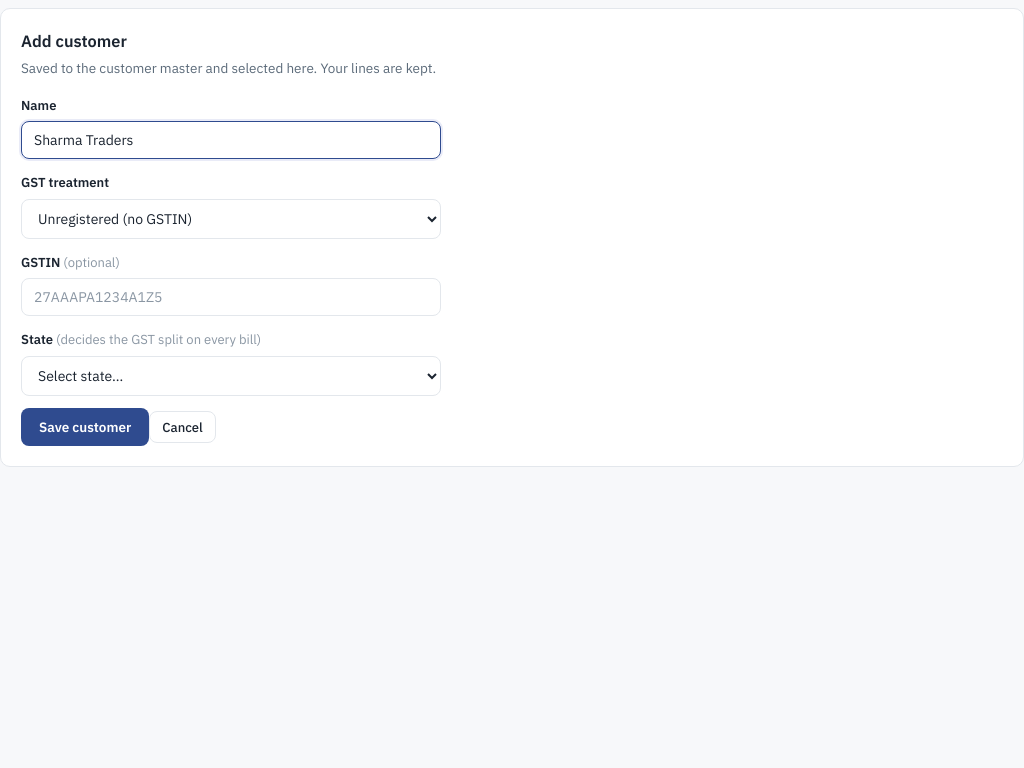
Test: <QuickAddCustomer> › keeps the typed values when the server errors
The image size is (1024, 768).
Select "09 — Uttar Pradesh" in the dropdown labelled "State (decides the GST split on every bill)" at (231, 376), box [21, 356, 441, 396]
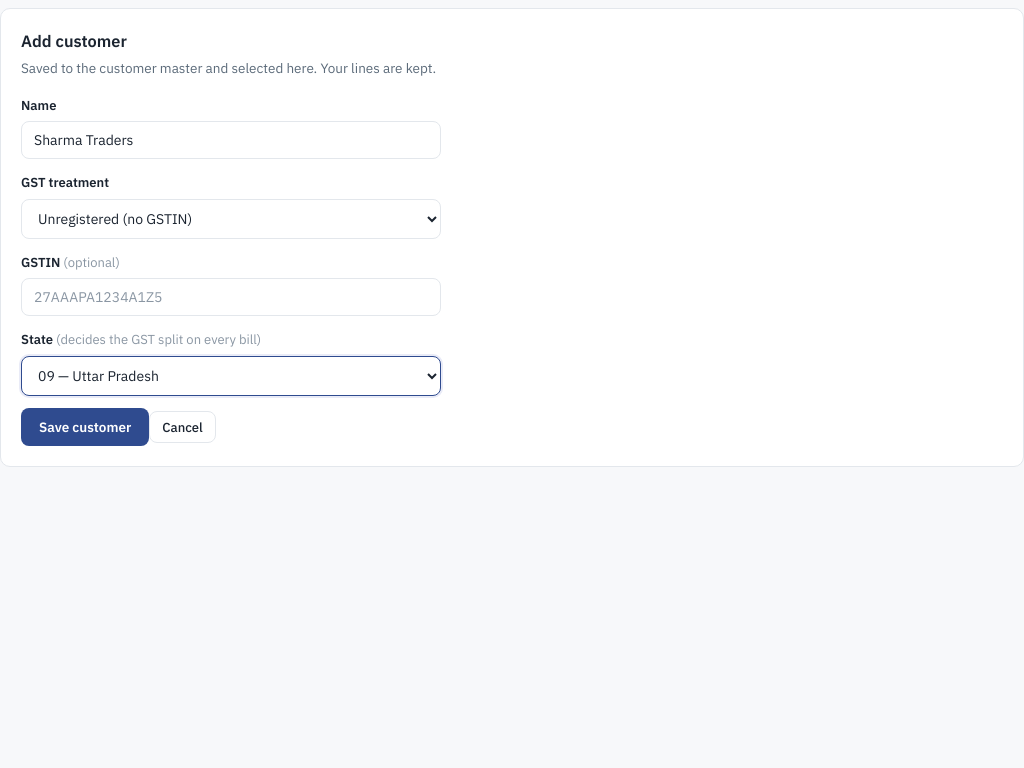
Click the button "Save customer" at (85, 427), box [21, 408, 149, 446]
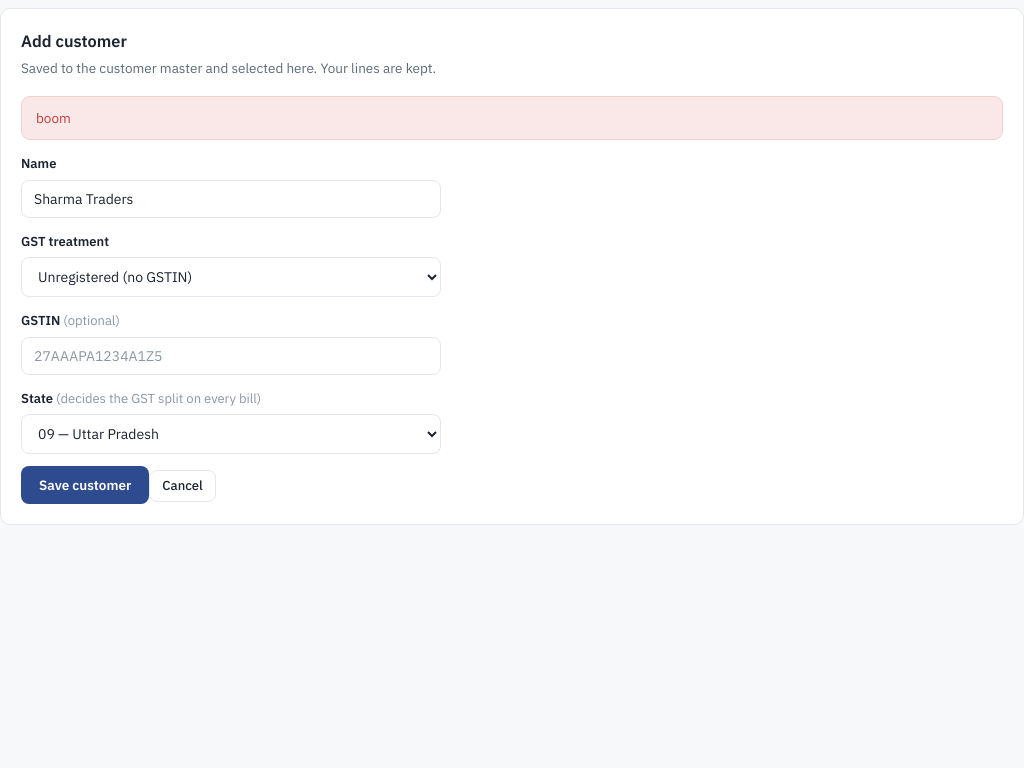
Expected: the field labelled "Name" holds "Sharma Traders", [21, 180, 441, 218]
Now the message "boom" is shown, box [21, 96, 1003, 140]
